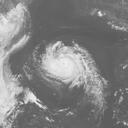cyclone: (45, 46, 90, 83)
